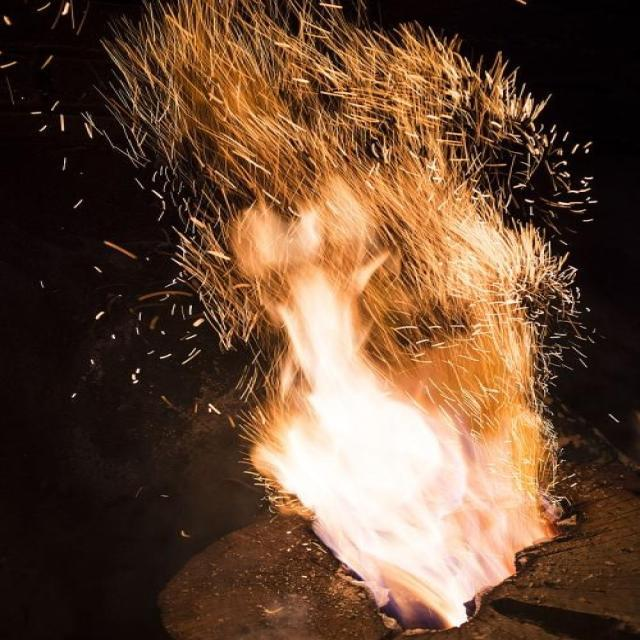Fire: (96, 1, 598, 629)
